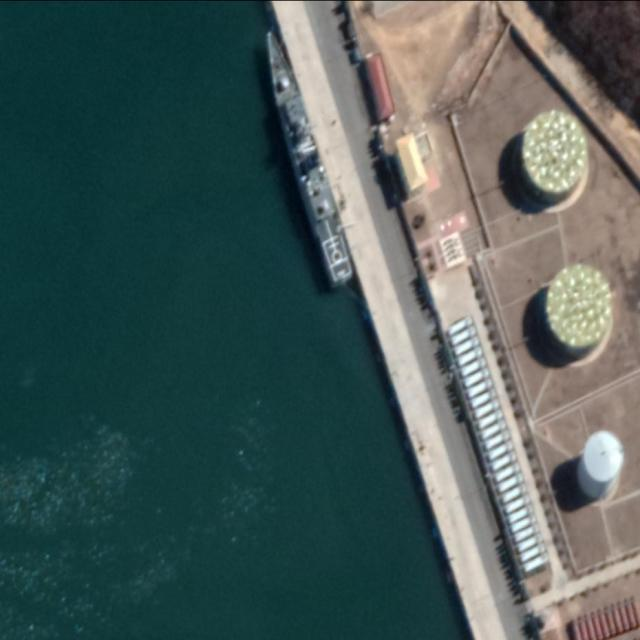Auxiliary Ships: (256, 25, 355, 288)
